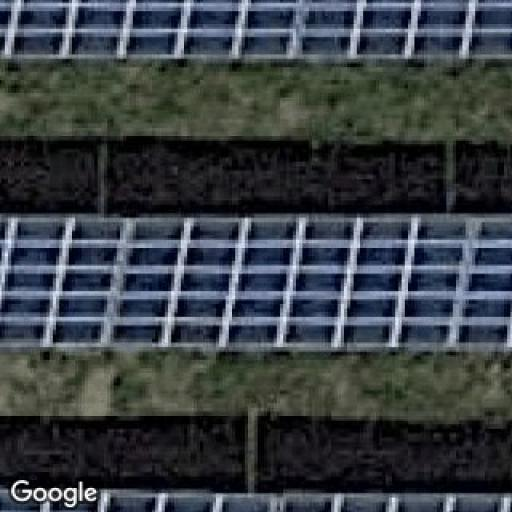solar-panel: (0, 218, 512, 356), (0, 0, 512, 67), (0, 489, 512, 512)
